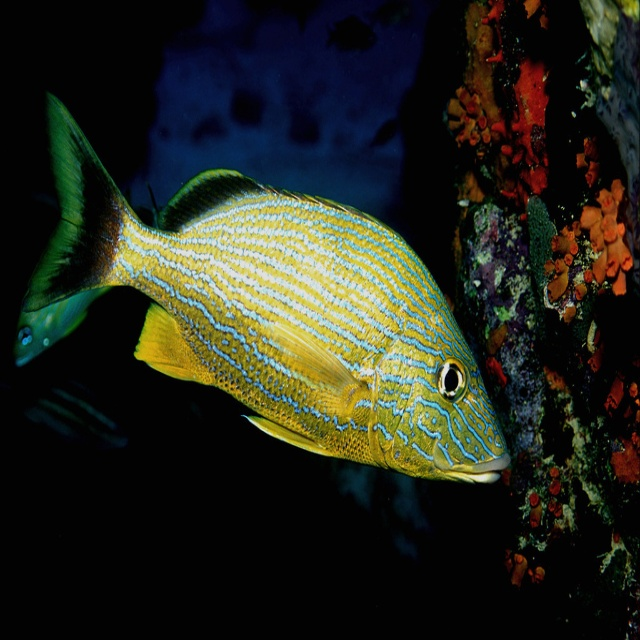Fish: (10, 145, 502, 513)
